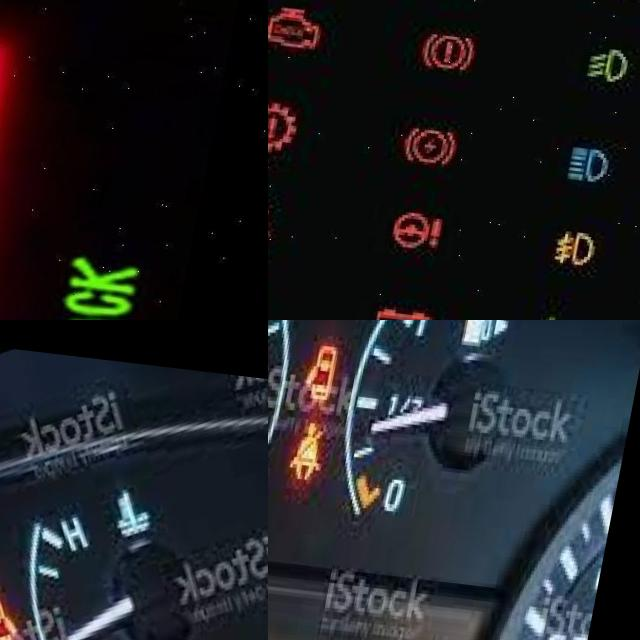Electronic Power Steering Warning: (405, 200, 467, 249)
Seat Belt: (296, 412, 353, 476), (268, 193, 293, 247)
